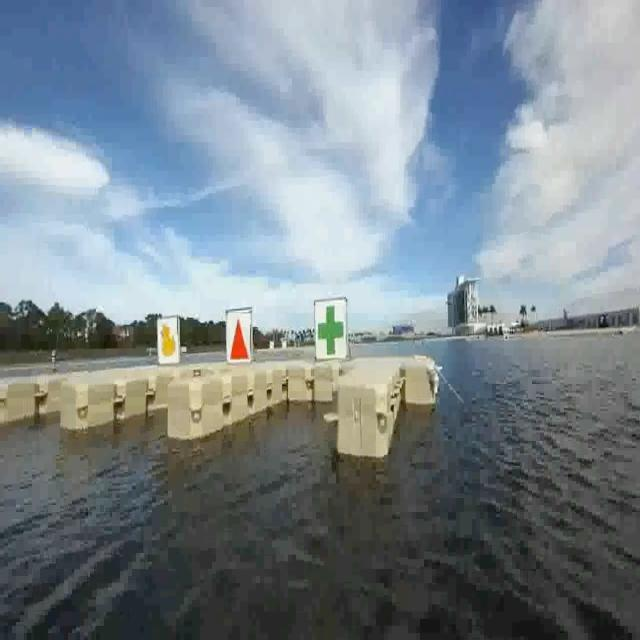blue-cross: (313, 304, 347, 360)
red-dot: (222, 312, 252, 363)
yellow-duck: (160, 324, 177, 358)
